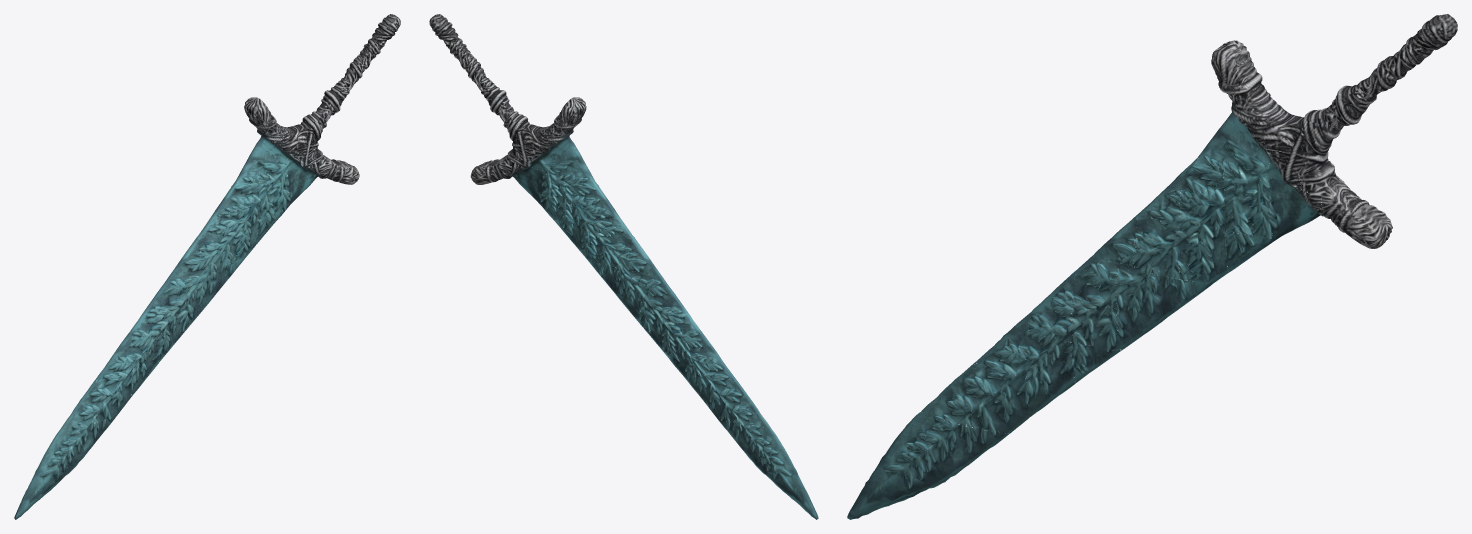
File: moonlight.glb
3 renders of one model, left to right at view 1: azimuth 30°, elevation 25°; view 2: azimuth 150°, elevation 25°; view 3: azimuth 330°, elevation 25°, orthographic. The views are drawn at different scales.
Parts seen in each view (by area): view 1: Moonlight_Blade.001; view 2: Moonlight_Blade.001; view 3: Moonlight_Blade.001.
Part boxes in pixels (box(x1,y1,x2,y2)): Moonlight_Blade.001: box(14, 14, 400, 519); Moonlight_Blade.001: box(429, 14, 818, 519); Moonlight_Blade.001: box(847, 14, 1457, 519).
Size of the model in its own units: 0.9788 by 0.9996 by 0.0694.
1 material, 1 textured.
